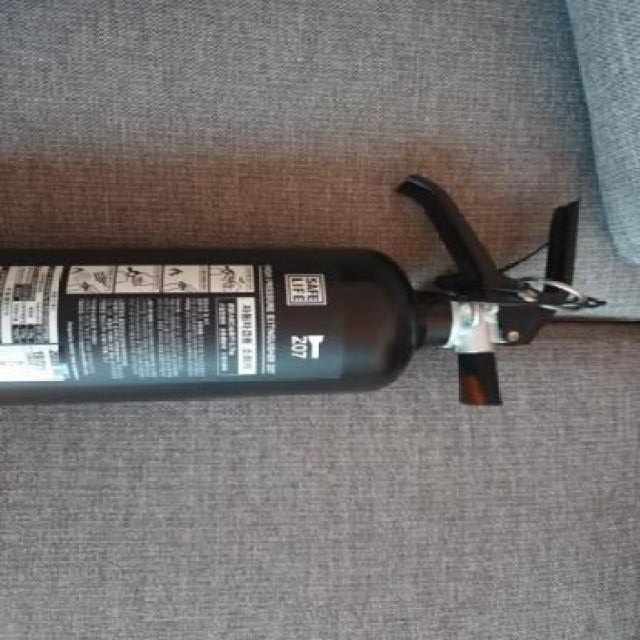fire extinguisher: (0, 174, 582, 408)
